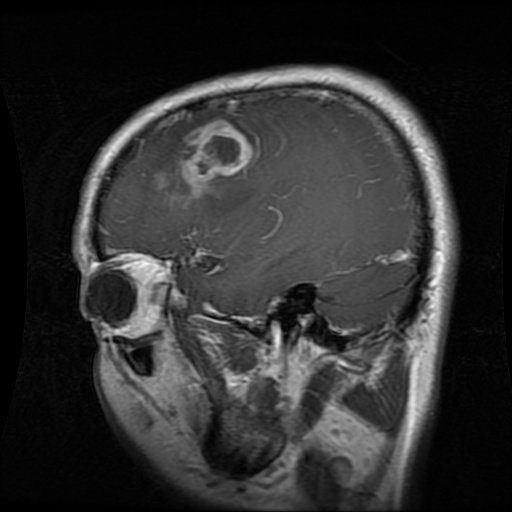glioma: (179, 117, 252, 197)
